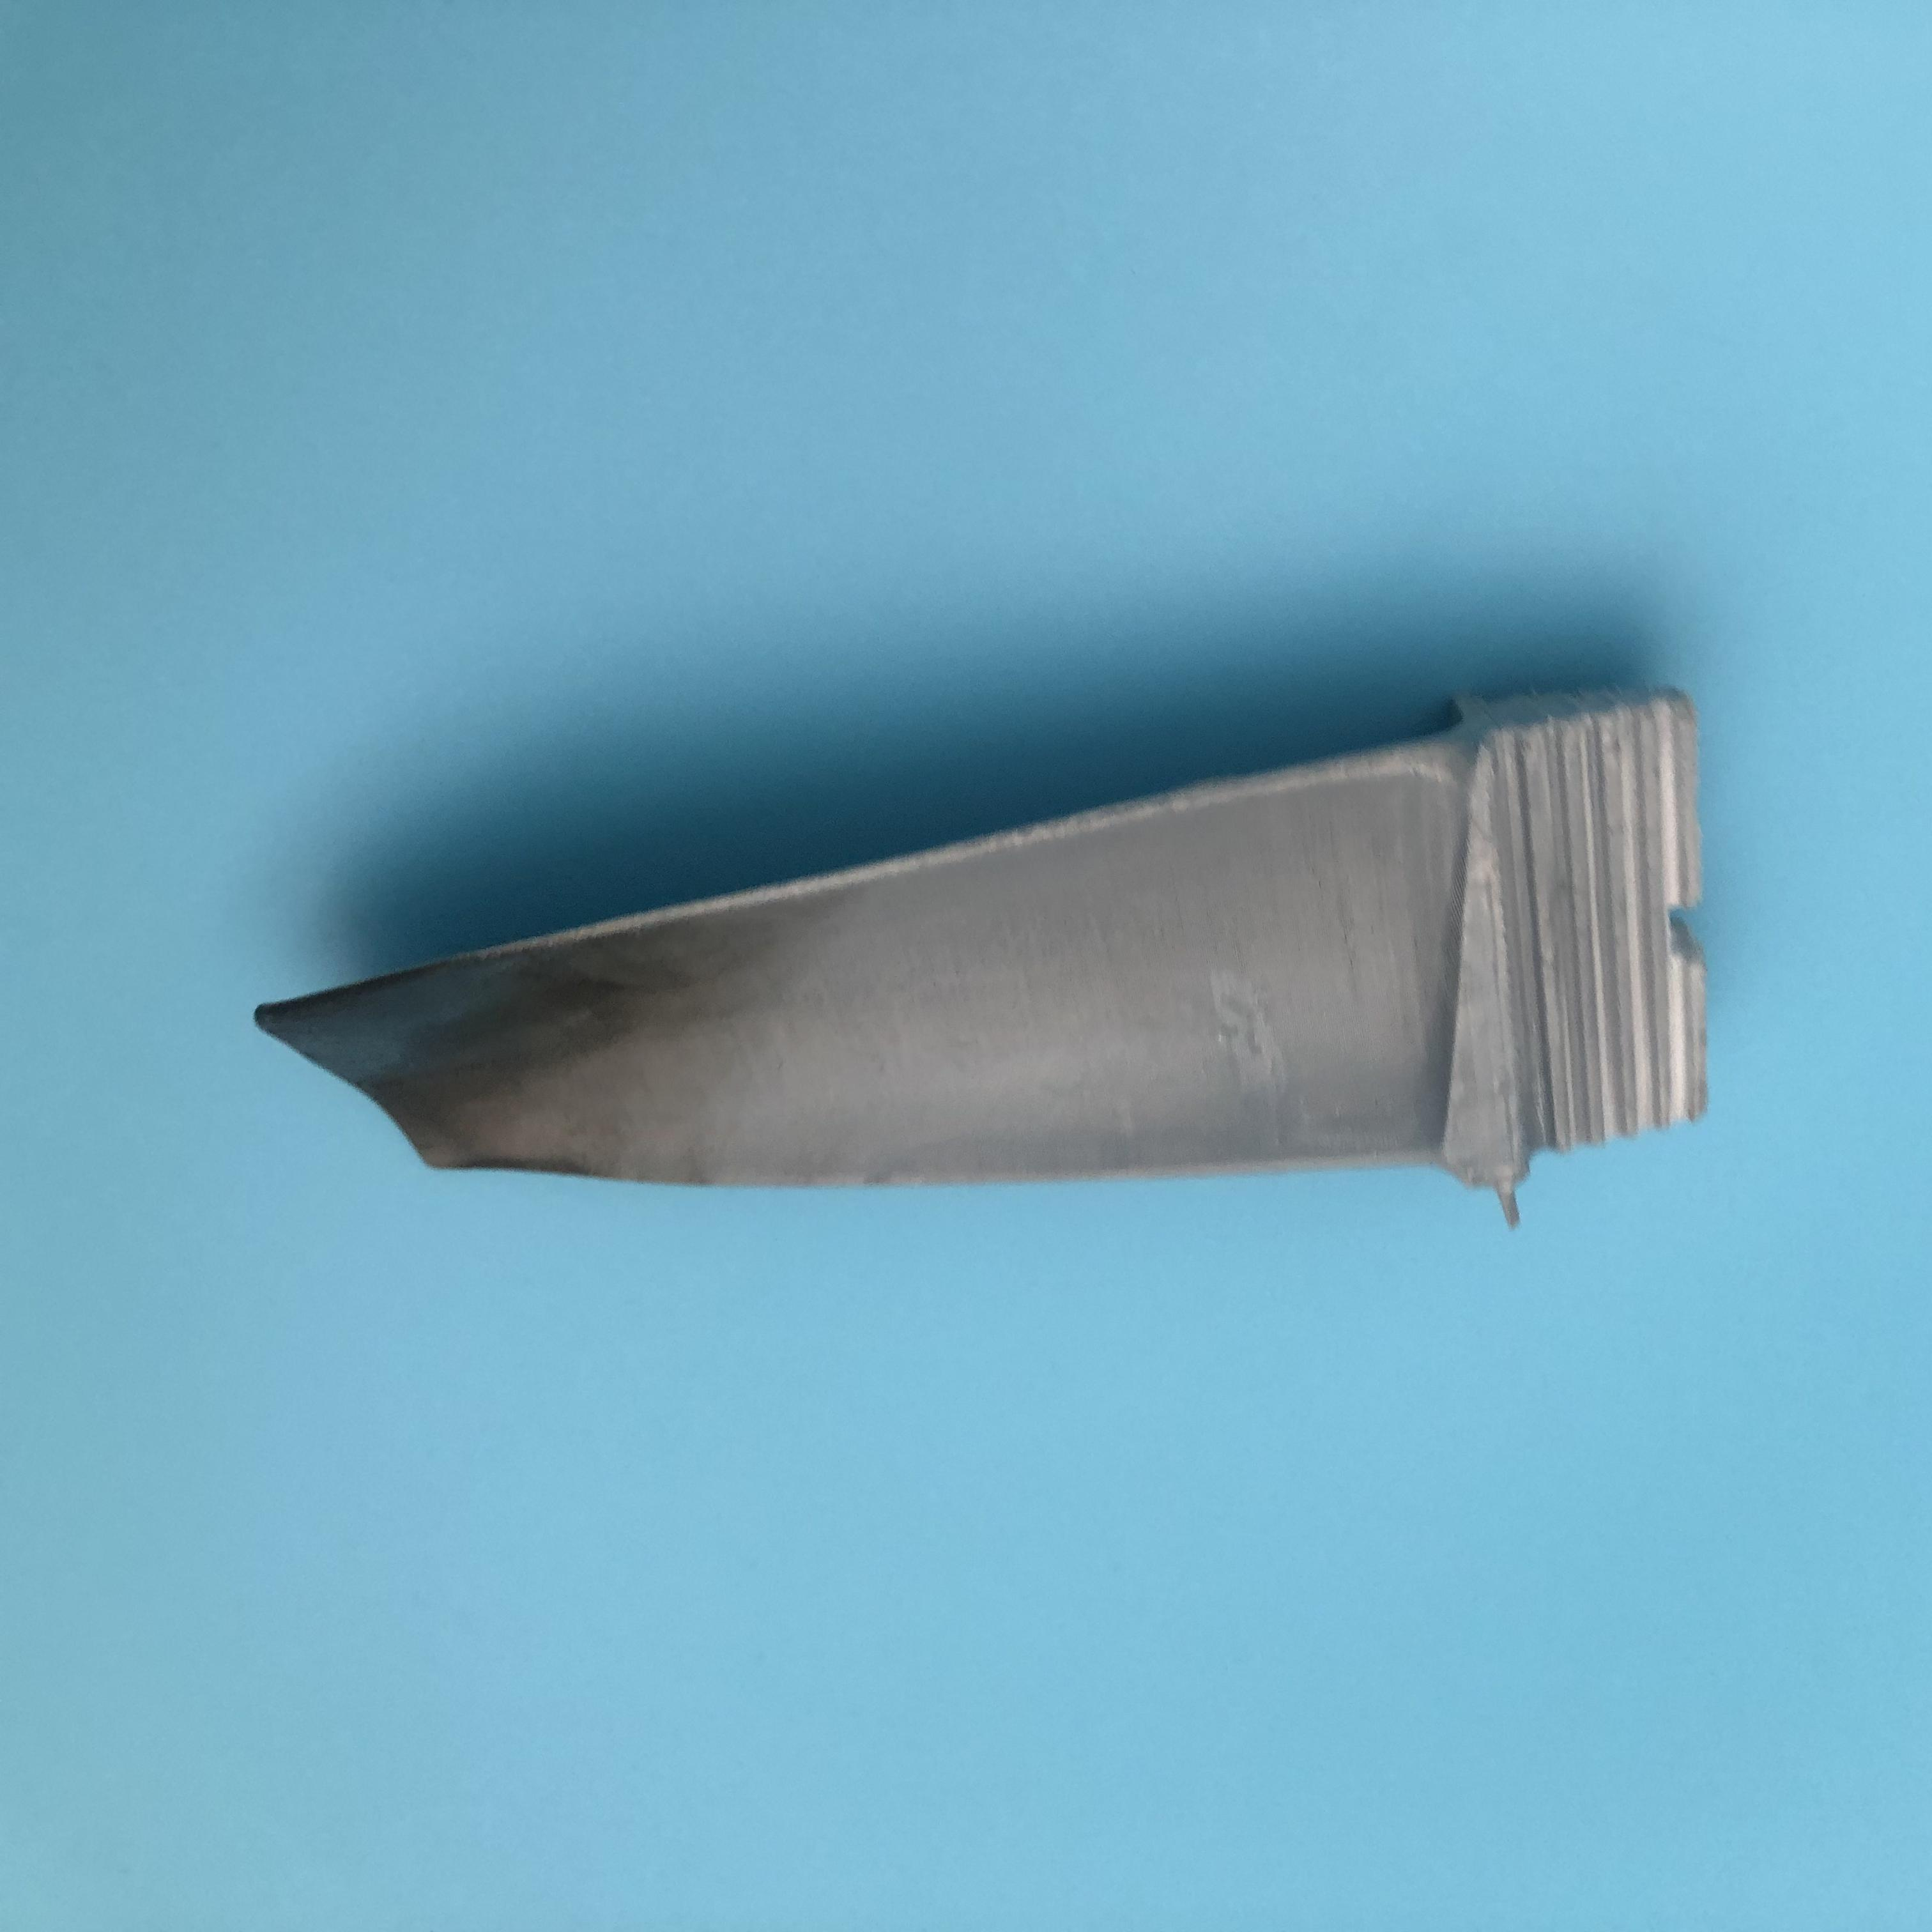ablation: (272, 980, 681, 1157)
